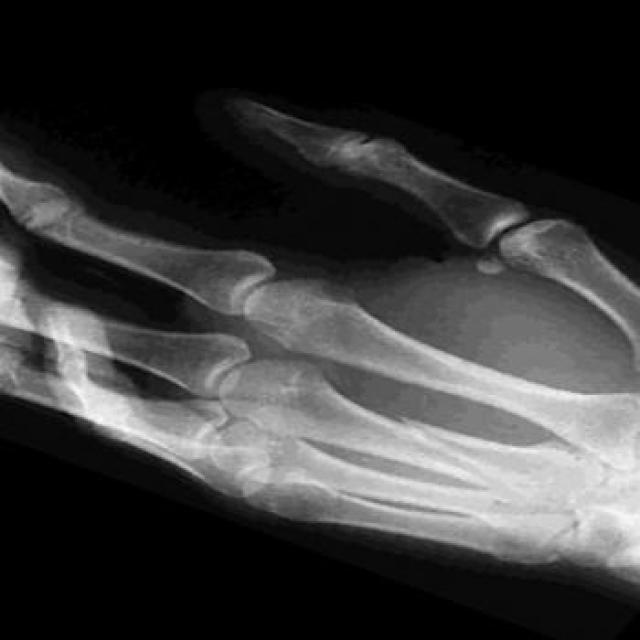fracture: (392, 418, 513, 487)
